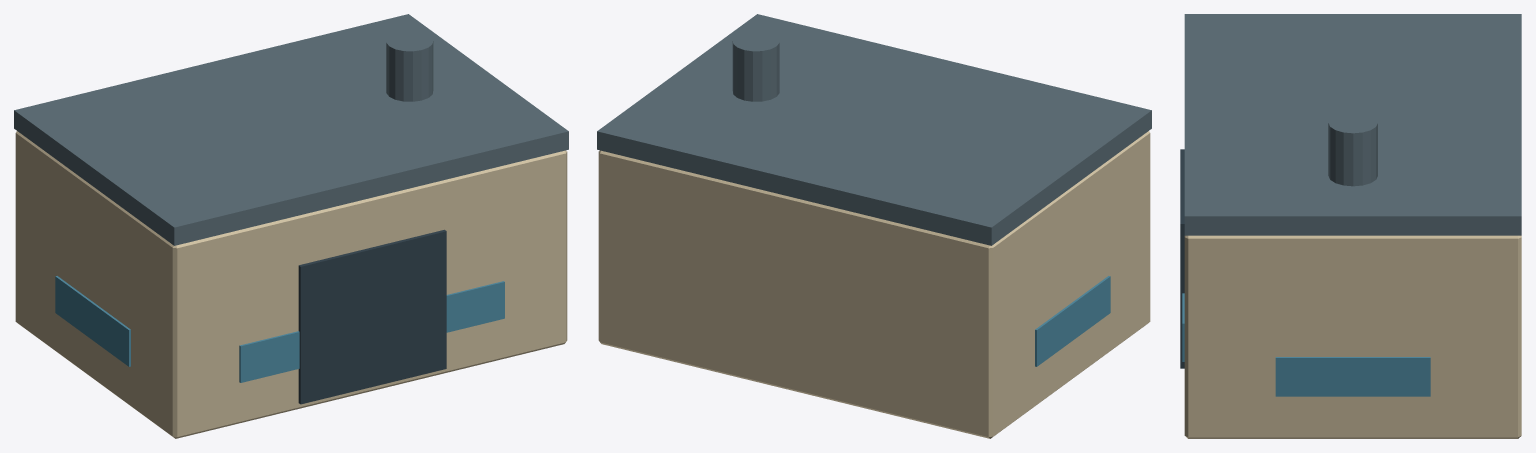
The model's file is workshop-high.glb.
The picture shows the model from 3 angles, left to right: view 1: azimuth 30°, elevation 25°; view 2: azimuth 150°, elevation 25°; view 3: azimuth 270°, elevation 25°; orthographic projection. The views are drawn at different scales.
Visible parts, largest first — view 1: Workshop_Body, Roof, Loading_Door, Vent, Window_S_0_-1, Window_F_0_0, Window_F_0_2; view 2: Workshop_Body, Roof, Vent, Window_S_0_-1; view 3: Roof, Workshop_Body, Window_S_0_1, Vent, Loading_Door.
Part boxes in pixels (x1=…): Workshop_Body: x1=15, y1=131, x2=567, y2=438; Roof: x1=14, y1=14, x2=568, y2=245; Loading_Door: x1=298, y1=229, x2=446, y2=404; Vent: x1=386, y1=31, x2=433, y2=101; Window_S_0_-1: x1=55, y1=276, x2=130, y2=366; Window_F_0_0: x1=239, y1=331, x2=299, y2=382; Window_F_0_2: x1=446, y1=281, x2=504, y2=332; Workshop_Body: x1=598, y1=131, x2=1150, y2=438; Roof: x1=597, y1=14, x2=1151, y2=245; Vent: x1=732, y1=31, x2=779, y2=101; Window_S_0_-1: x1=1035, y1=276, x2=1110, y2=366; Roof: x1=1184, y1=14, x2=1521, y2=235; Workshop_Body: x1=1184, y1=235, x2=1521, y2=438; Window_S_0_1: x1=1275, y1=357, x2=1430, y2=396; Vent: x1=1328, y1=112, x2=1377, y2=186; Loading_Door: x1=1180, y1=149, x2=1184, y2=368.
Size of the model in its own units: 5.46 by 3.45 by 3.85.
